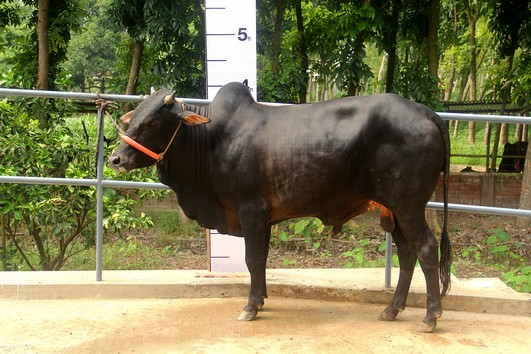cow: (101, 80, 457, 340)
